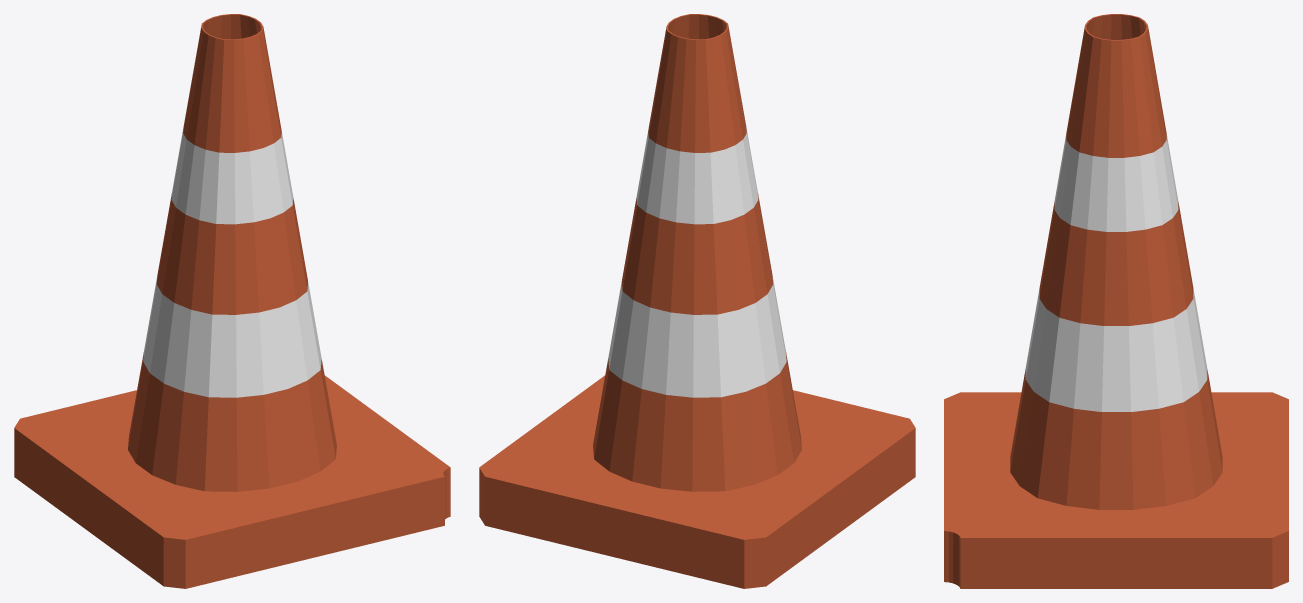
Rendered from Kegle.fbx.
3 renders of one model, left to right at view 1: azimuth 30°, elevation 25°; view 2: azimuth 150°, elevation 25°; view 3: azimuth 270°, elevation 25°, orthographic. The views are drawn at different scales.
Visible parts, largest first — view 1: Cube.003; view 2: Cube.003; view 3: Cube.003.
Boxes of the visible parts, box(x1,y1,x2,y2) form: Cube.003: box(14, 14, 450, 588); Cube.003: box(479, 14, 915, 588); Cube.003: box(944, 14, 1288, 588).
Size of the model in its own units: 101 by 158 by 101.
